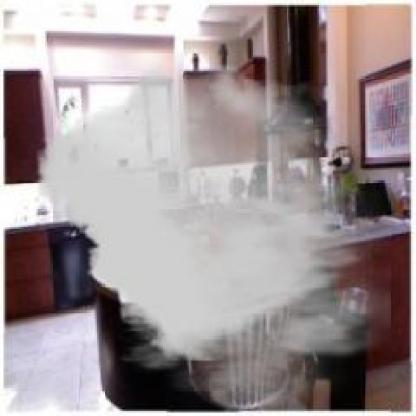Smoke: (36, 62, 390, 411)
